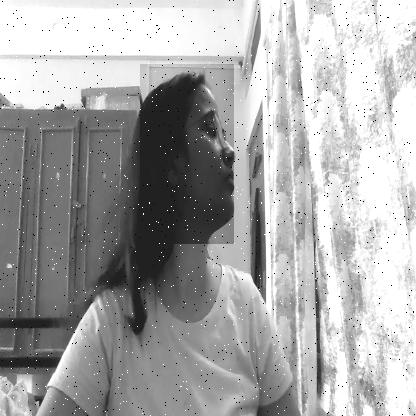Distracted: (140, 64, 234, 244)
